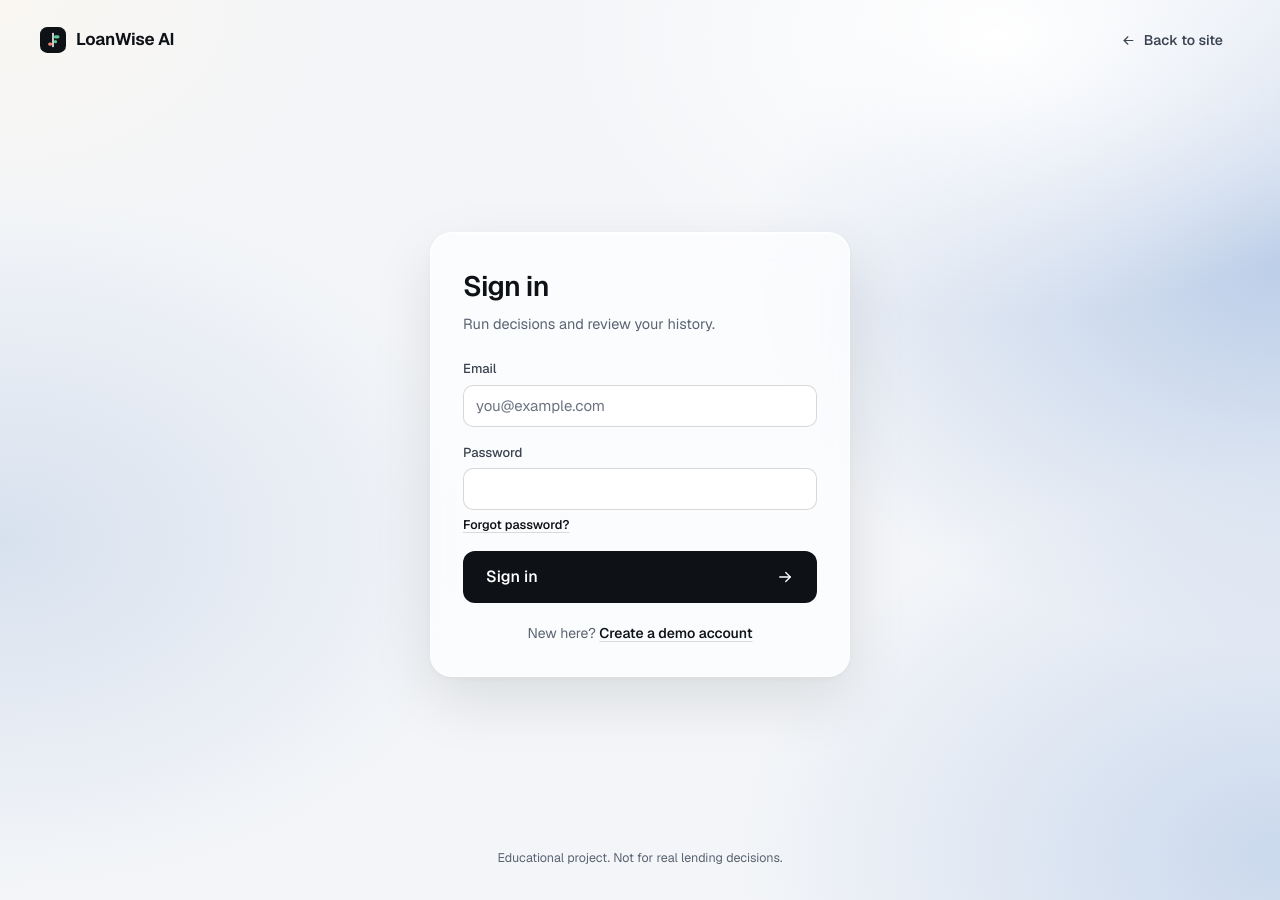
Test case: forgot password › is linked from sign-in
The image size is (1280, 900).
Step 1. Click the link "Forgot password?" → (516, 525), box x1=463 y1=516 x2=569 y2=533
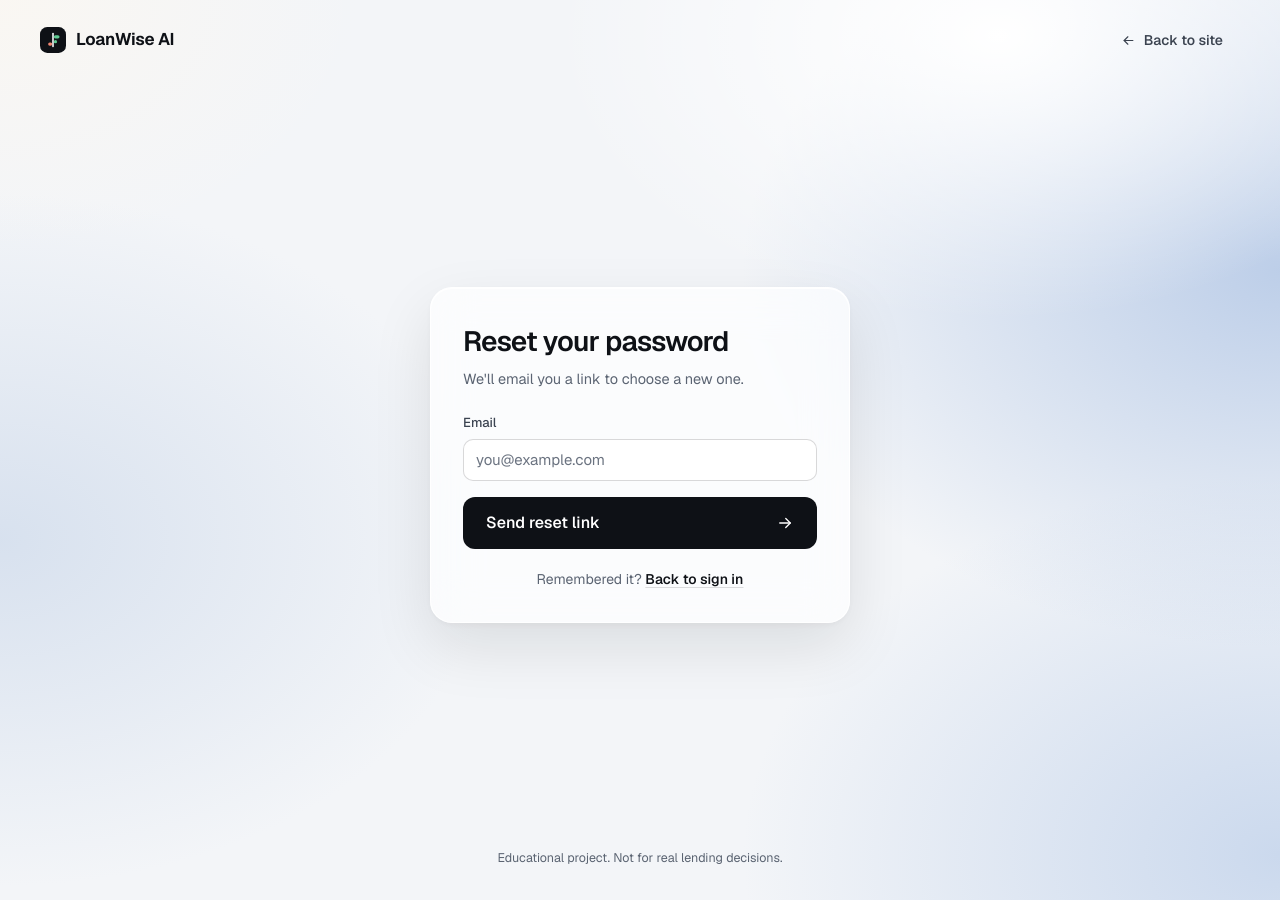
Result: the heading "Reset your password" is shown at x1=463 y1=322 x2=729 y2=358
